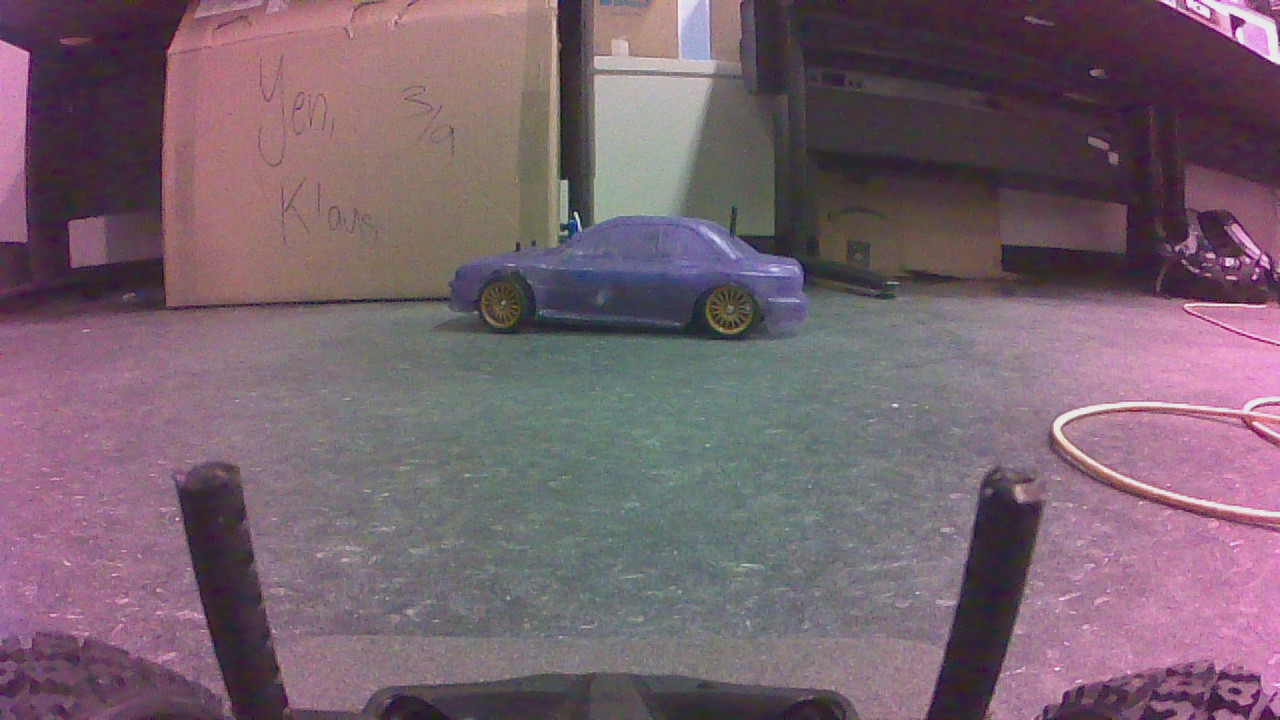opponent: (447, 215, 819, 347)
